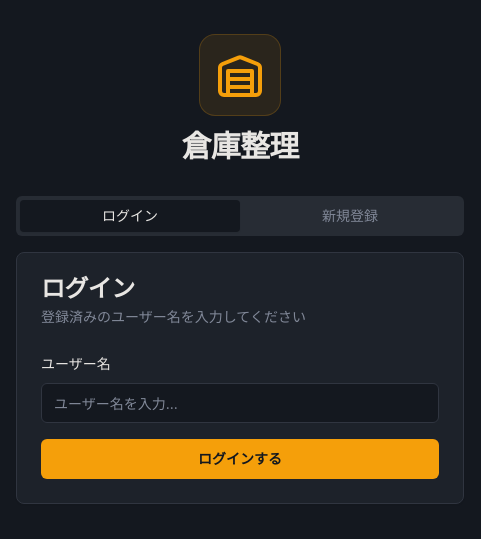
Test case: LoginPage — バリデーション › ユーザー名が空のままログインするとエラーが表示される
What coordinates should you click on to do the following:
click the button
I would click on:
 (240, 459)
Its box is [41, 439, 439, 479].
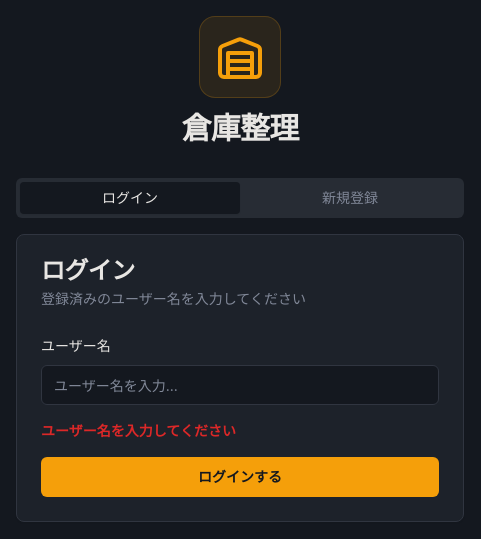
Result: the text "ユーザー名を入力してください" is shown at [41, 422, 236, 439]
